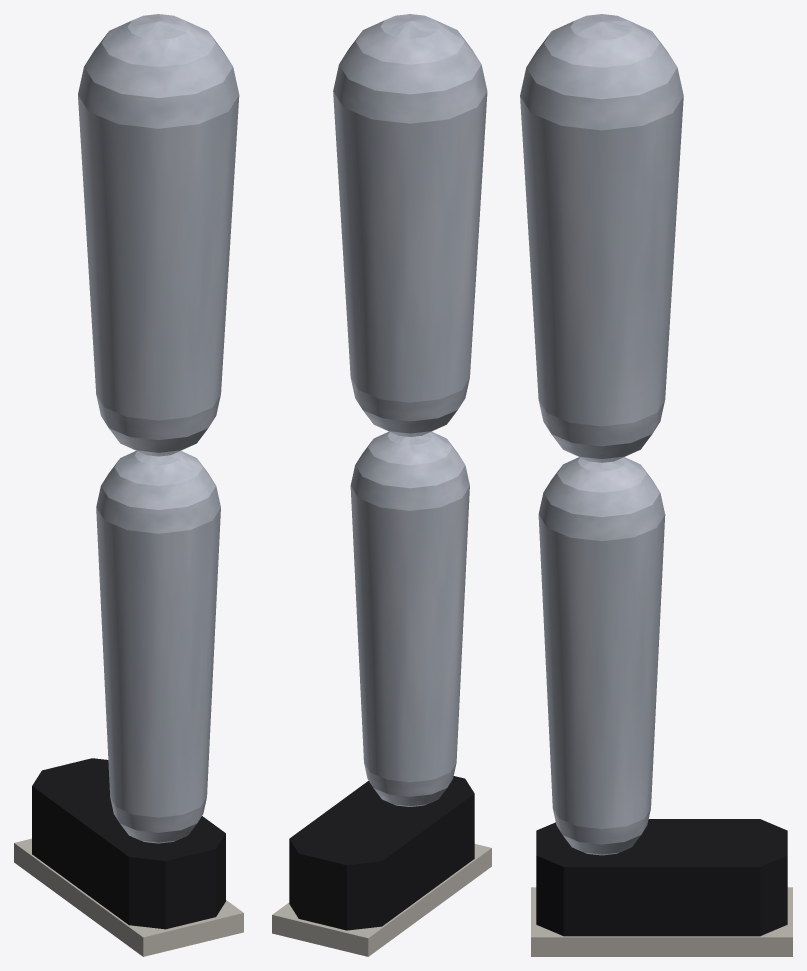
Rendered from char_thief_leg.obj.
The picture shows the model from 3 angles, left to right: view 1: azimuth 30°, elevation 25°; view 2: azimuth 150°, elevation 25°; view 3: azimuth 270°, elevation 25°; orthographic projection. The views are drawn at different scales.
Parts seen in each view (by area): view 1: char_thief_leg; view 2: char_thief_leg; view 3: char_thief_leg.
Part boxes in pixels (x1,y1,x2,y2): char_thief_leg: (14,14,243,956); char_thief_leg: (272,14,491,956); char_thief_leg: (520,14,792,956).
Bounding box in the file's own units: 0.15 × 0.92 × 0.25.
3 materials, 1 textured.
